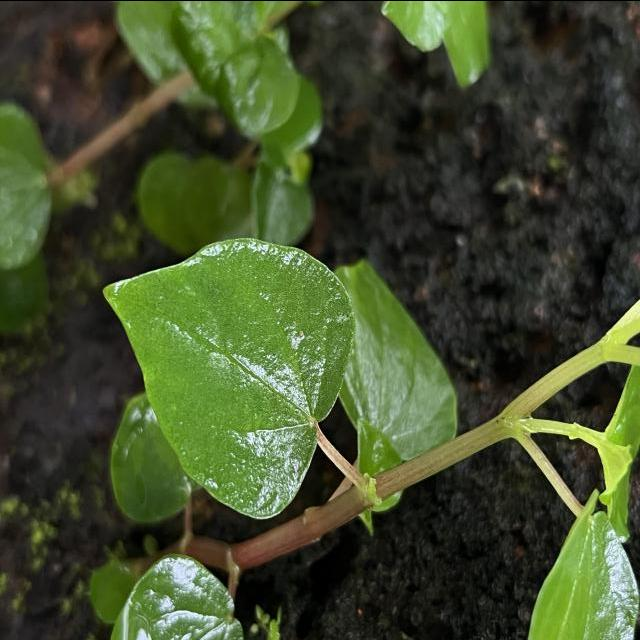Peperomia pellucida: (99, 234, 358, 520)
